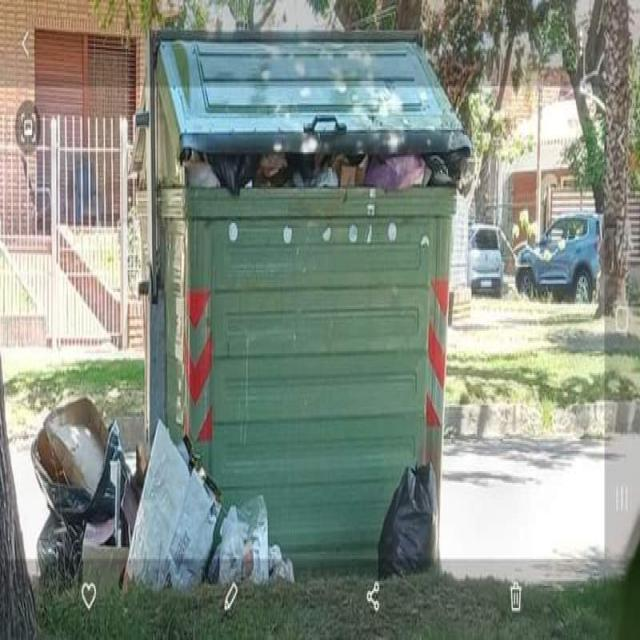garbage: (32, 416, 298, 572), (188, 145, 479, 208), (367, 442, 448, 574)
